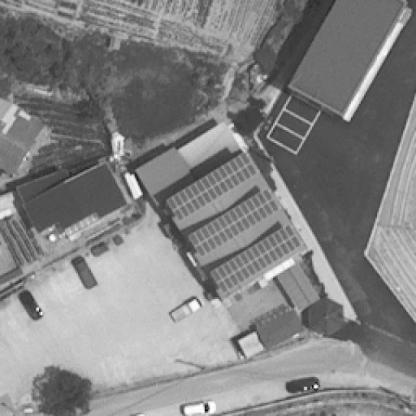solar-pv-panel: (165, 152, 259, 223), (187, 189, 280, 256), (210, 225, 300, 292)
